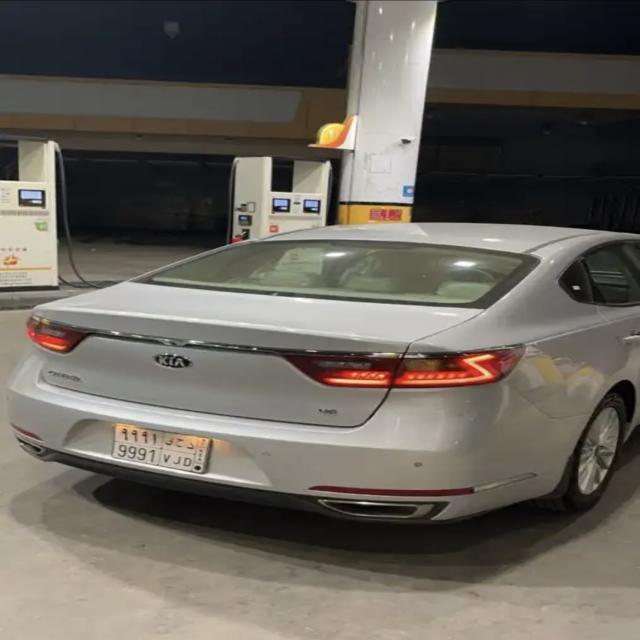license_plate: (112, 424, 208, 474)
